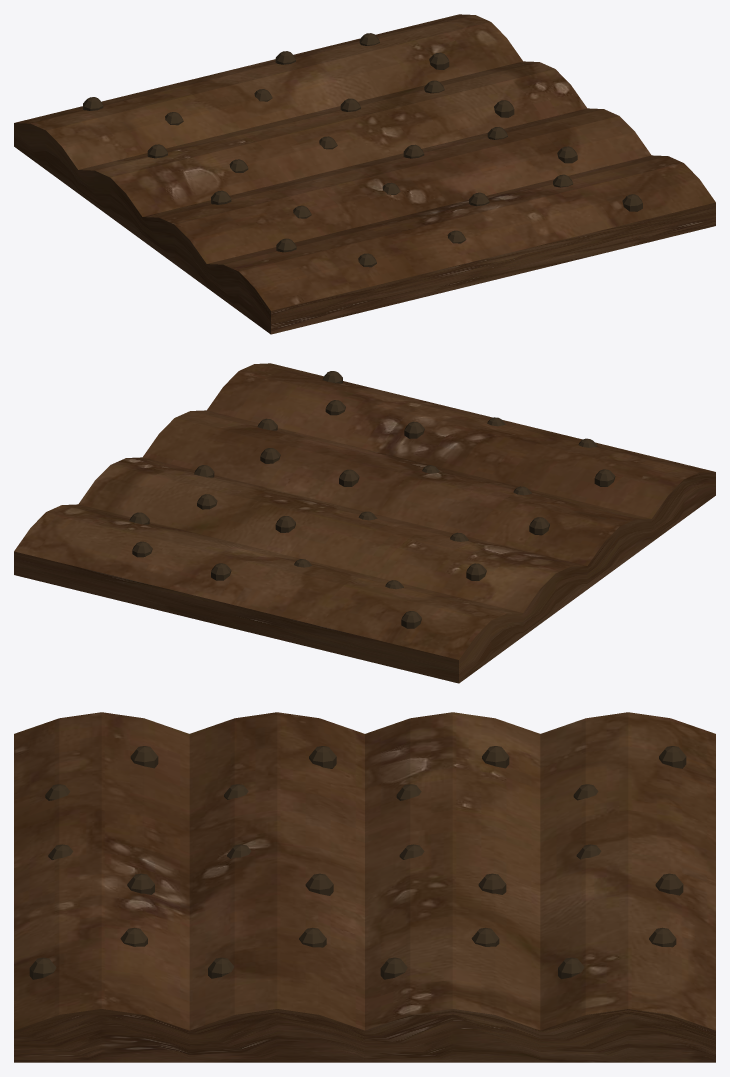
File: plantedseedtile.fbx
3 renders of one model, top to bottom at view 1: azimuth 30°, elevation 25°; view 2: azimuth 150°, elevation 25°; view 3: azimuth 270°, elevation 25°, orthographic. The views are drawn at different scales.
Visible parts, largest first — view 1: Cube, Cube.001; view 2: Cube, Cube.001; view 3: Cube, Cube.001.
Boxes of the visible parts, x1,y1,x2,y2 form: Cube: [14, 14, 715, 334]; Cube.001: [83, 33, 642, 267]; Cube: [14, 363, 715, 683]; Cube.001: [129, 371, 615, 628]; Cube: [14, 712, 715, 1062]; Cube.001: [29, 746, 686, 979].
Size of the model in its own units: 200 by 19.31 by 200.
